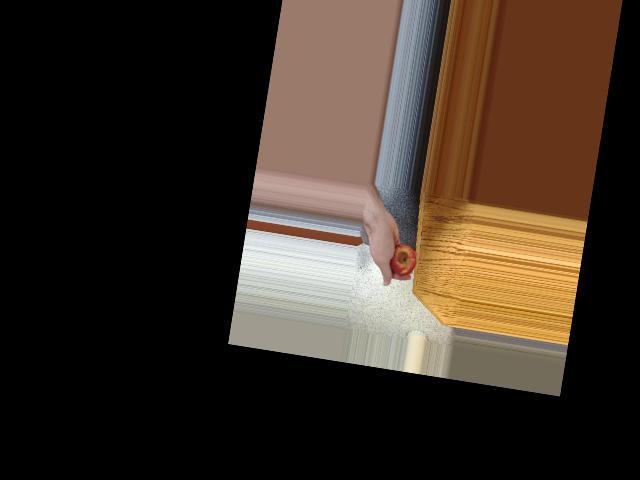apple: (384, 240, 419, 279)
